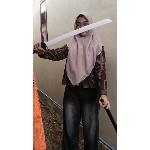Pedang: (32, 16, 116, 56)
